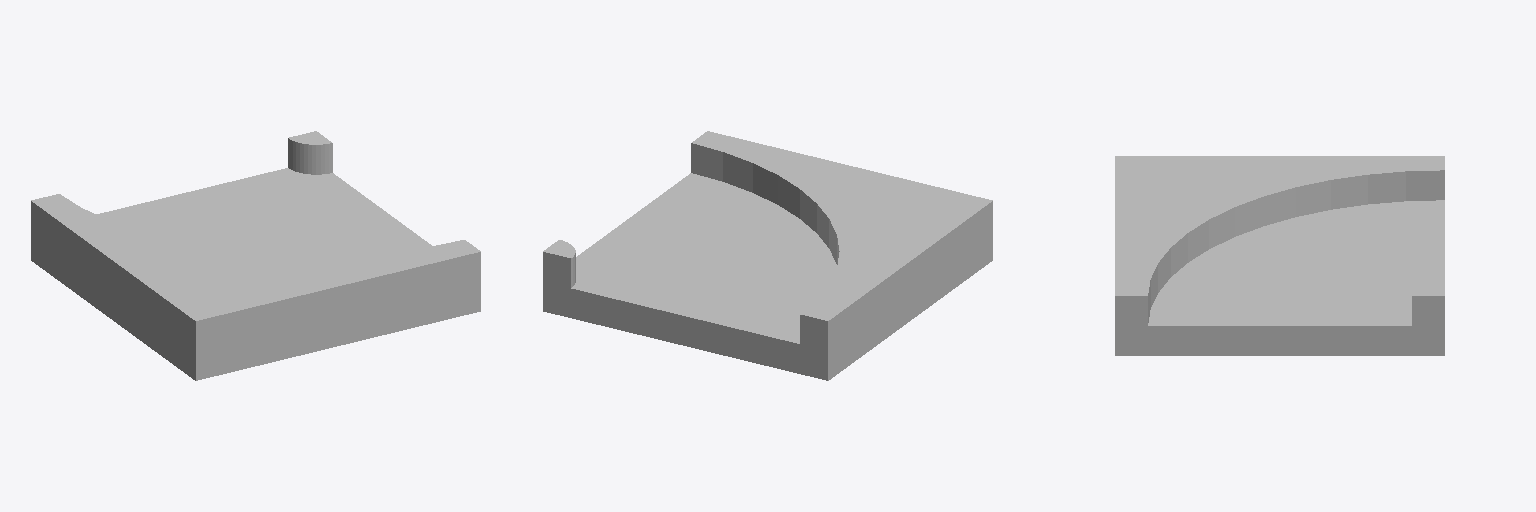
File: mcornerleft.obj
3 renders of one model, left to right at view 1: azimuth 30°, elevation 25°; view 2: azimuth 150°, elevation 25°; view 3: azimuth 270°, elevation 25°, orthographic.
Parts seen in each view (by area): view 1: mcornerright; view 2: mcornerright; view 3: mcornerright.
Part boxes in pixels (bbox=[...]): mcornerright: bbox=[31, 131, 480, 380]; mcornerright: bbox=[543, 131, 992, 380]; mcornerright: bbox=[1115, 156, 1444, 355].
Size of the model in its own units: 10 by 2 by 10.